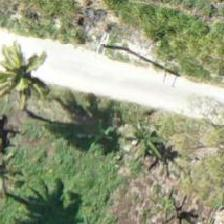coconut_tree: (0, 31, 65, 121)
